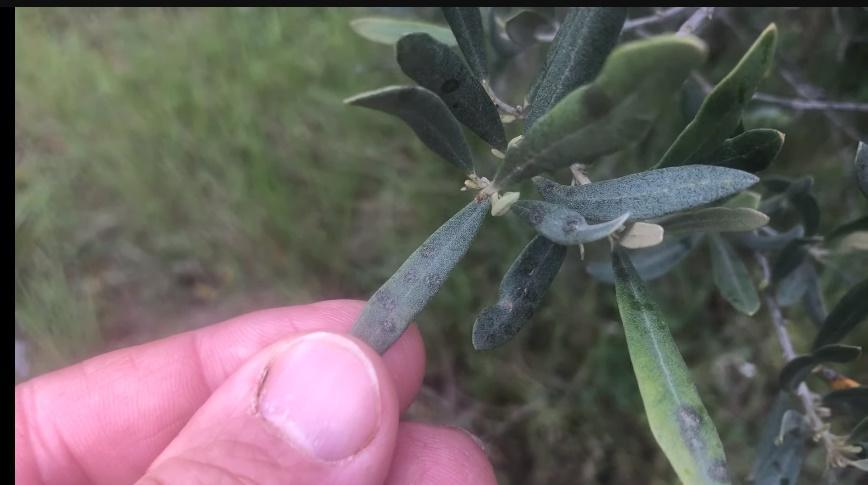OlivePeacockSpot: (492, 39, 702, 188), (612, 250, 734, 485), (370, 197, 488, 334), (397, 33, 504, 152), (470, 242, 566, 354), (708, 241, 758, 316), (524, 208, 629, 240)
